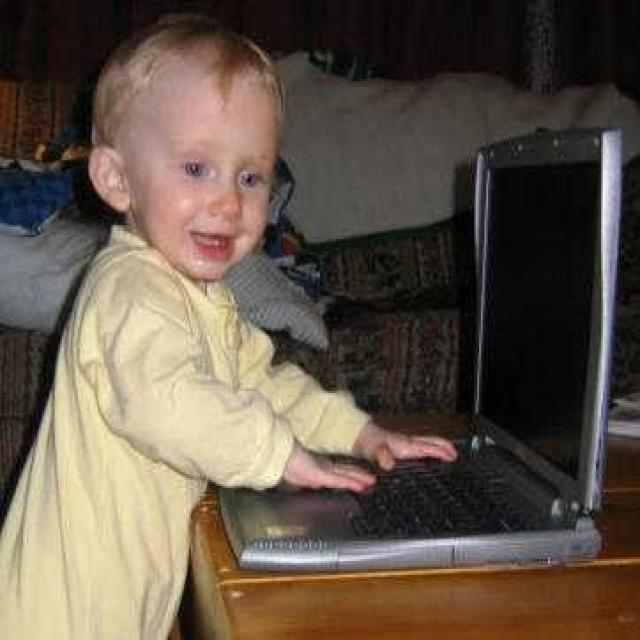laptop: (215, 137, 640, 587)
